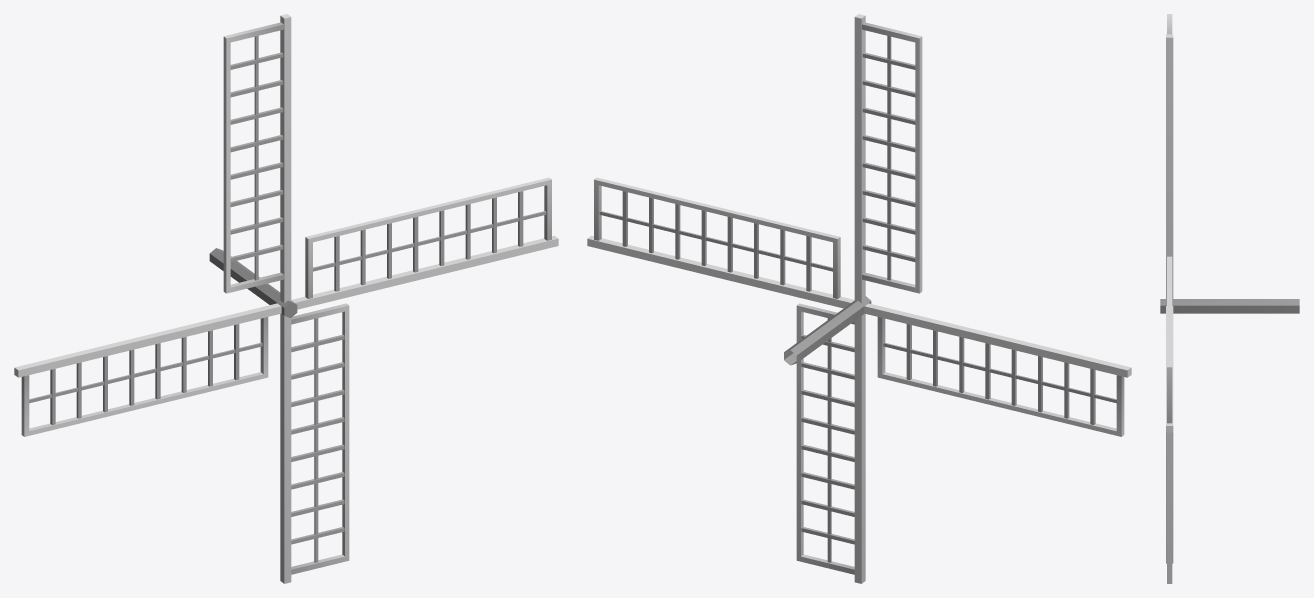
File: tower_020.glb
3 views of the same model, side by side, from view 1: azimuth 30°, elevation 25°; view 2: azimuth 150°, elevation 25°; view 3: azimuth 270°, elevation 25° (orthographic). The views are drawn at different scales.
Visible parts, largest first — view 1: tower_020; view 2: tower_020; view 3: tower_020.
Part boxes in pixels (bbox=[...]): tower_020: bbox=[14, 14, 558, 583]; tower_020: bbox=[587, 14, 1131, 583]; tower_020: bbox=[1160, 14, 1299, 583].
Size of the model in its own units: 11.64 by 11.64 by 2.79.
1 material, 1 textured.
